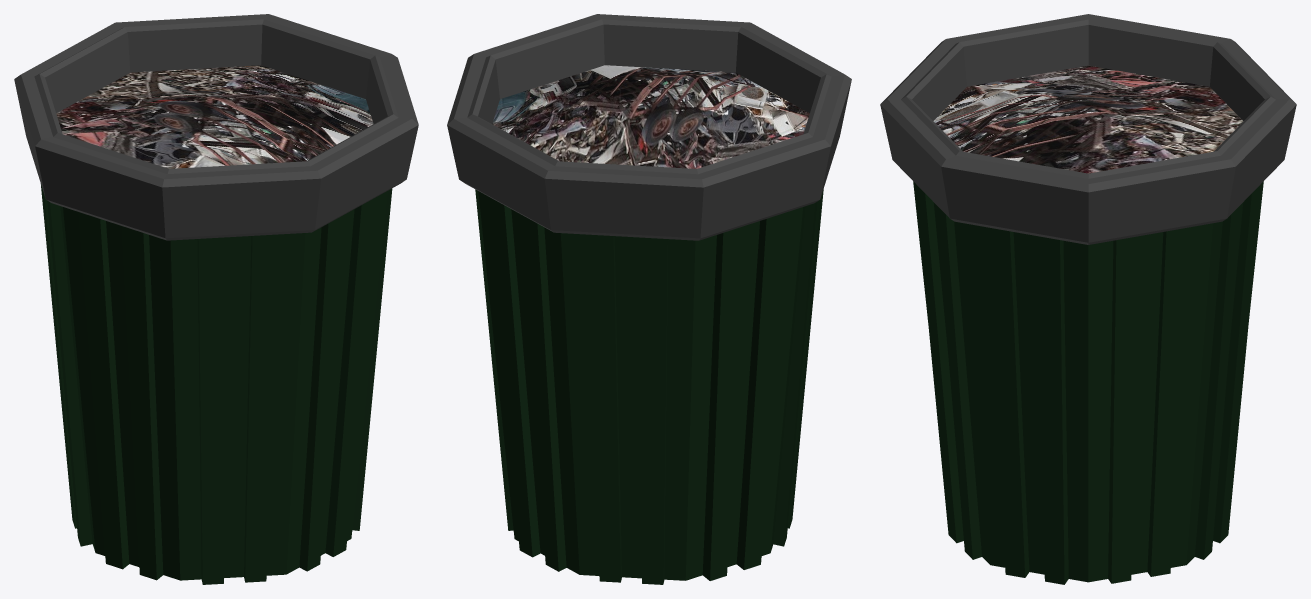
Rendered from trash-can.fbx.
The picture shows the model from 3 angles, left to right: view 1: azimuth 30°, elevation 25°; view 2: azimuth 150°, elevation 25°; view 3: azimuth 270°, elevation 25°; orthographic projection.
Visible parts, largest first — view 1: Cylinder.001, Cylinder, Sphere; view 2: Cylinder.001, Cylinder, Sphere; view 3: Cylinder.001, Cylinder, Sphere.
Boxes of the visible parts, x1,y1,x2,y2 form: Cylinder.001: (41,185,392,584); Cylinder: (14,14,418,240); Sphere: (56,65,373,168); Cylinder.001: (475,189,823,584); Cylinder: (447,14,851,240); Sphere: (492,65,809,168); Cylinder.001: (913,181,1263,584); Cylinder: (880,14,1296,244); Sphere: (933,65,1243,173).
Size of the model in its own units: 174 by 198 by 174.
